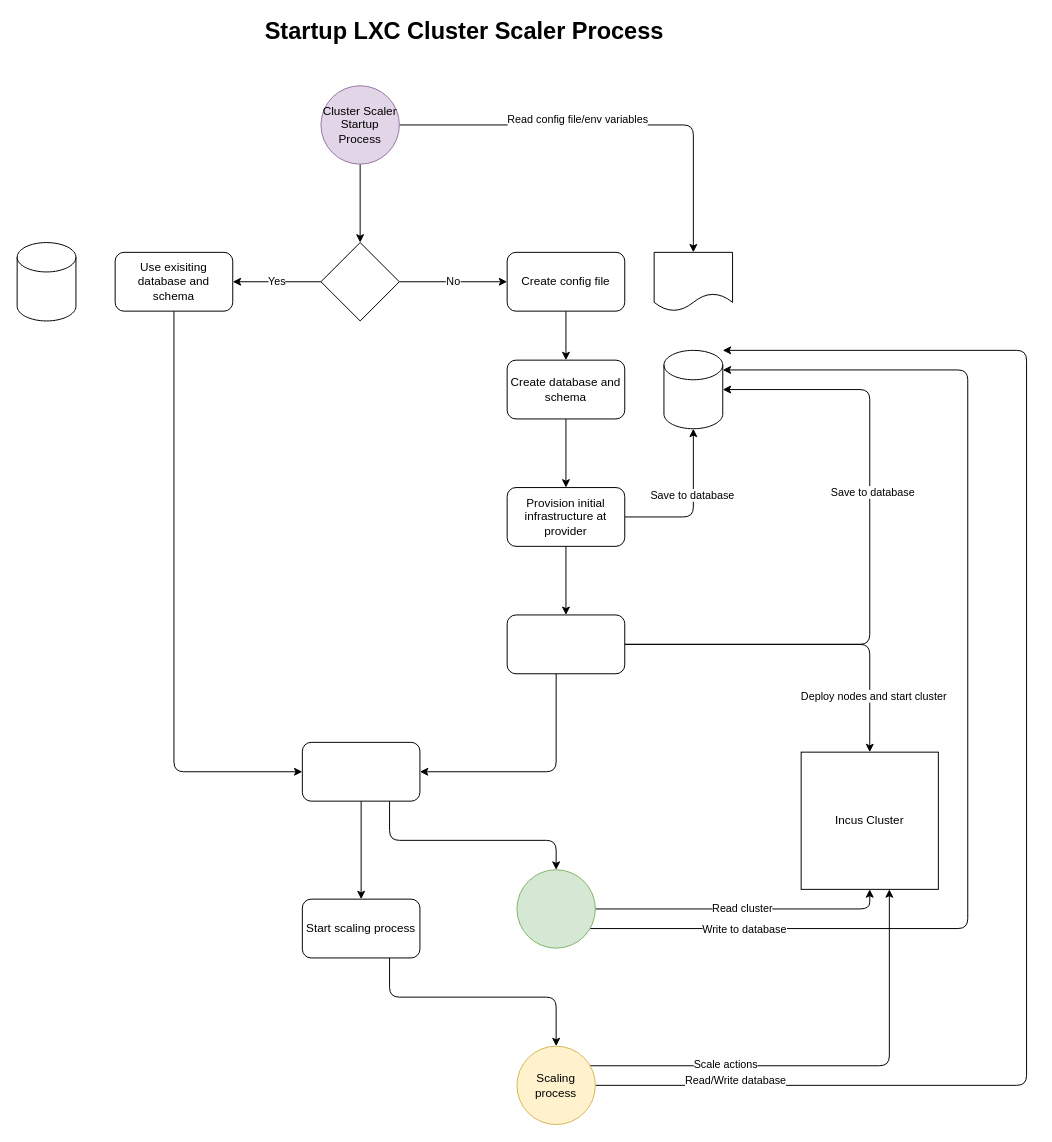
Some shapes in this 1052 by 1142 pixel diagram are drawn without their labels. Each missing label, with the centre of its shape:
"Build incus cluster" goes at (x=565, y=644).
"if config file exists" goes at (x=359, y=281).
"Monitoring process" goes at (x=555, y=908).
"Start monitoring process" goes at (x=360, y=771).
